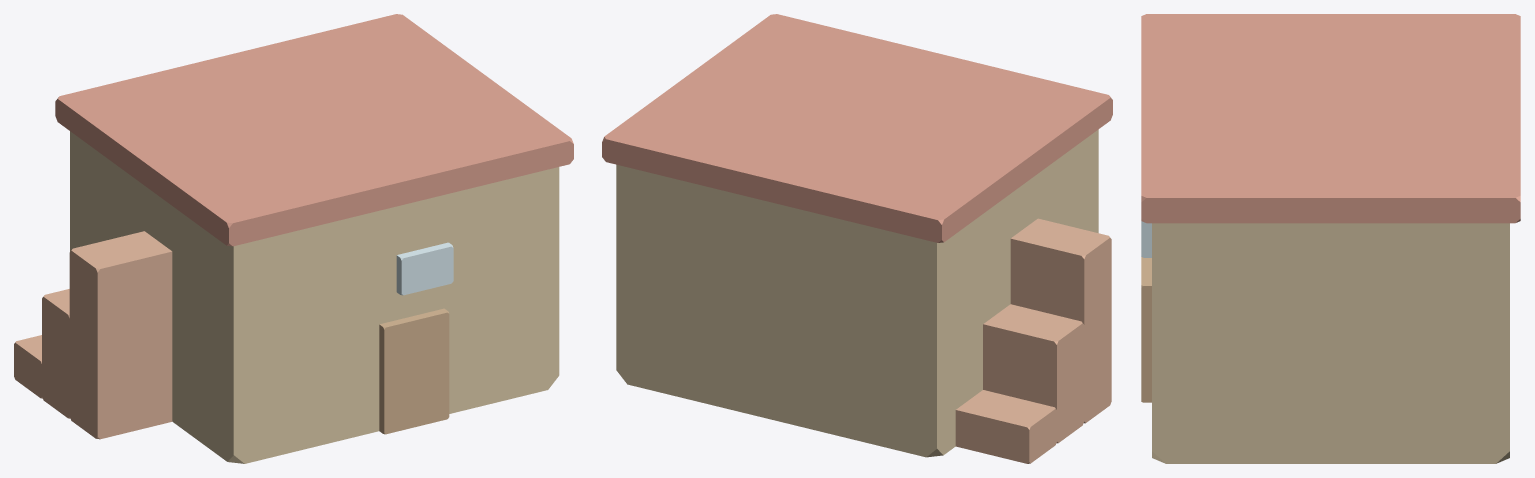
File: house_b.glb
3 views of the same model, side by side, from view 1: azimuth 30°, elevation 25°; view 2: azimuth 150°, elevation 25°; view 3: azimuth 270°, elevation 25° (orthographic). The views are drawn at different scales.
Parts seen in each view (by area): view 1: body_m0, body_m1, body_m6, body_m2, body_m5, body_m3, body_m4; view 2: body_m0, body_m1, body_m6, body_m5, body_m4; view 3: body_m0, body_m1, body_m2, body_m3.
Part boxes in pixels (bbox=[...]): body_m0: bbox=[70, 131, 559, 463]; body_m1: bbox=[55, 14, 573, 246]; body_m6: bbox=[69, 231, 172, 439]; body_m2: bbox=[379, 308, 449, 434]; body_m5: bbox=[42, 289, 70, 418]; body_m3: bbox=[396, 242, 453, 295]; body_m4: bbox=[14, 335, 42, 398]; body_m0: bbox=[616, 129, 1098, 457]; body_m1: bbox=[602, 14, 1112, 242]; body_m6: bbox=[1010, 218, 1111, 423]; body_m5: bbox=[983, 304, 1084, 443]; body_m4: bbox=[955, 390, 1056, 463]; body_m0: bbox=[1152, 223, 1509, 463]; body_m1: bbox=[1141, 14, 1520, 223]; body_m2: bbox=[1141, 257, 1151, 402]; body_m3: bbox=[1141, 221, 1151, 257].
Size of the model in its own units: 4.28 by 2.48 by 3.14.
